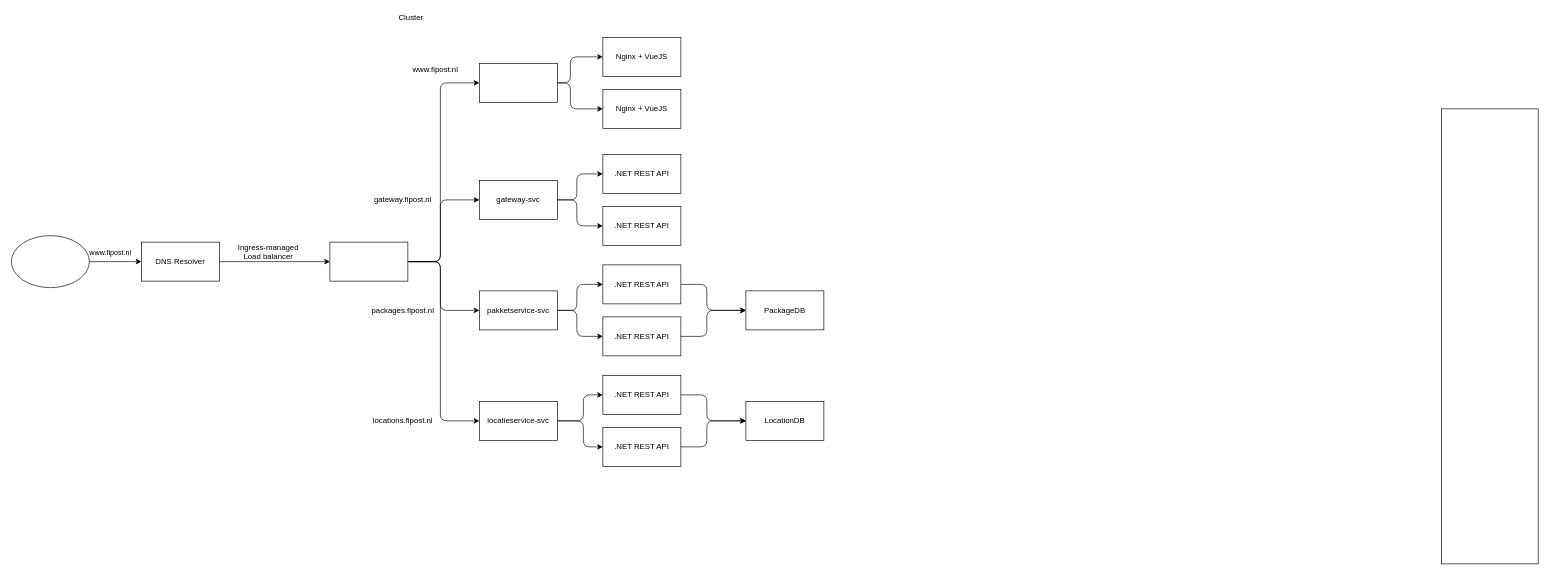
Image size: 1550x575. Some labels were removed from this diagram. Here are the shapes that lost their labels. From the top down, the centre of each, then its label:
point 518,82: ui-svc
point 50,261: Client
point 368,261: Ingress
